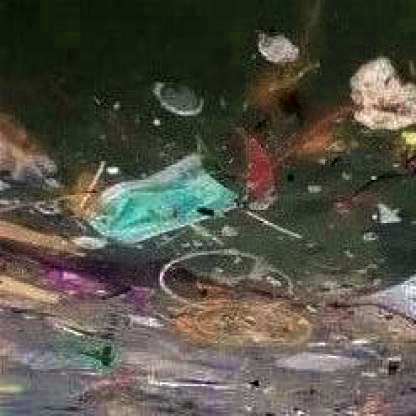Mask: (71, 148, 241, 251)
